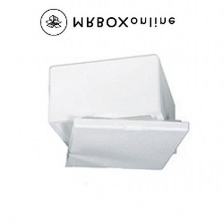foam_box: (41, 49, 195, 177)
